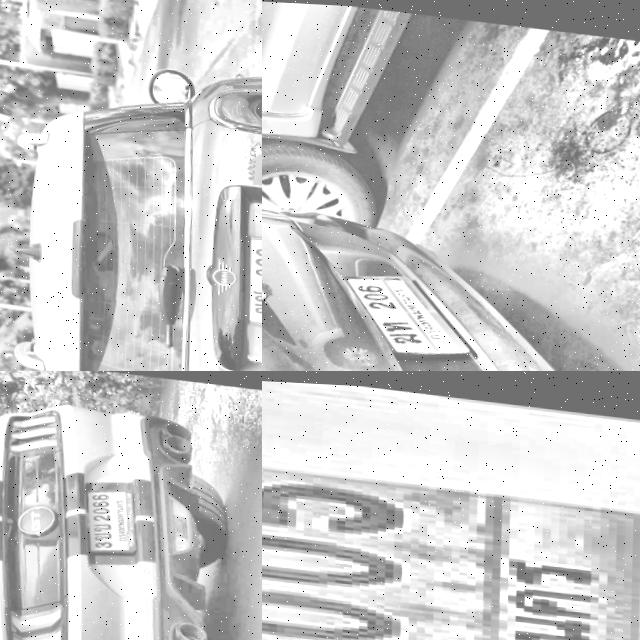license-plate: (262, 371, 640, 640), (333, 262, 480, 365), (77, 477, 142, 554), (235, 228, 262, 327)
